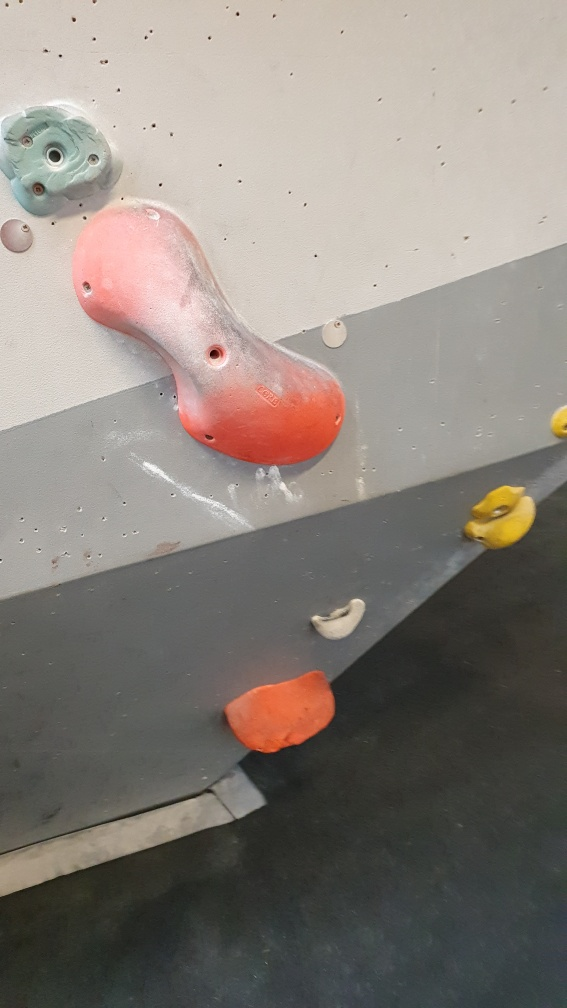Pinch: (68, 198, 348, 472)
